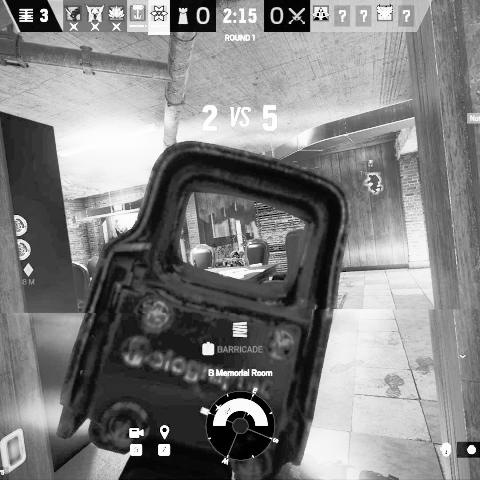Character: (215, 250, 246, 266)
Friend_label: (360, 159, 382, 176)
Head: (229, 250, 240, 259)
